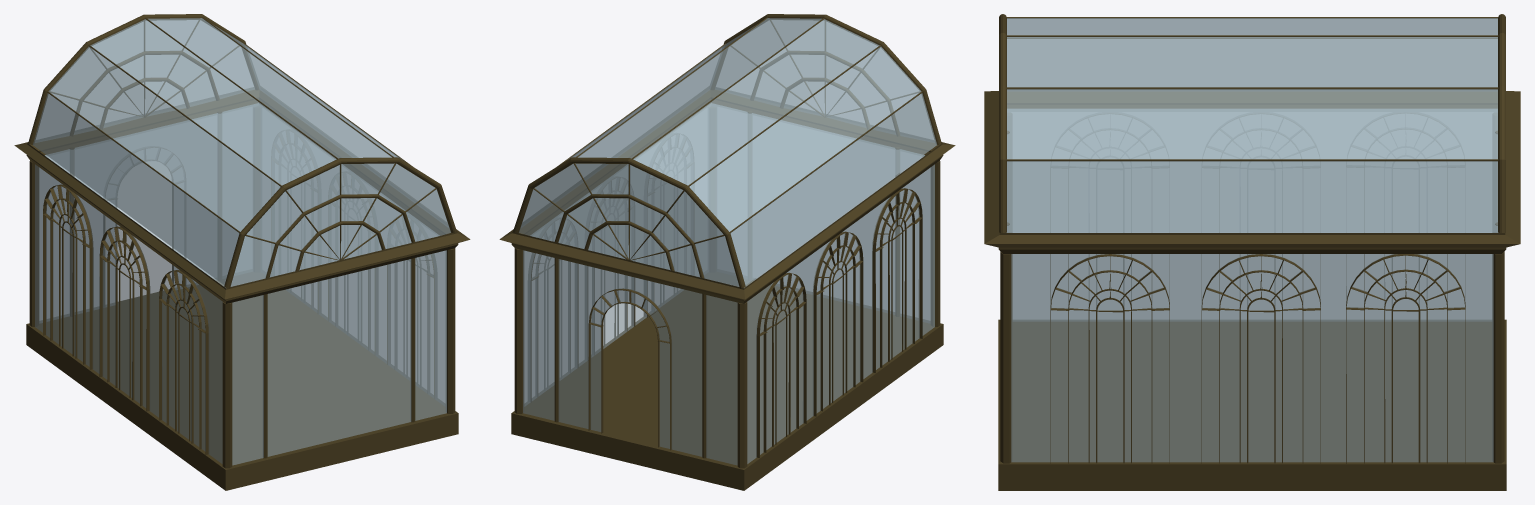
The model's file is Greenhouse1.fbx.
3 views of the same model, side by side, from view 1: azimuth 30°, elevation 25°; view 2: azimuth 150°, elevation 25°; view 3: azimuth 270°, elevation 25° (orthographic). The views are drawn at different scales.
Parts seen in each view (by area): view 1: korpus_1; view 2: korpus_1; view 3: korpus_1.
Boxes of the visible parts, box(x1,y1,x2,y2) form: korpus_1: box(14, 14, 470, 490); korpus_1: box(499, 14, 955, 490); korpus_1: box(984, 14, 1520, 490).
Size of the model in its own units: 1830 by 2155 by 2715.
